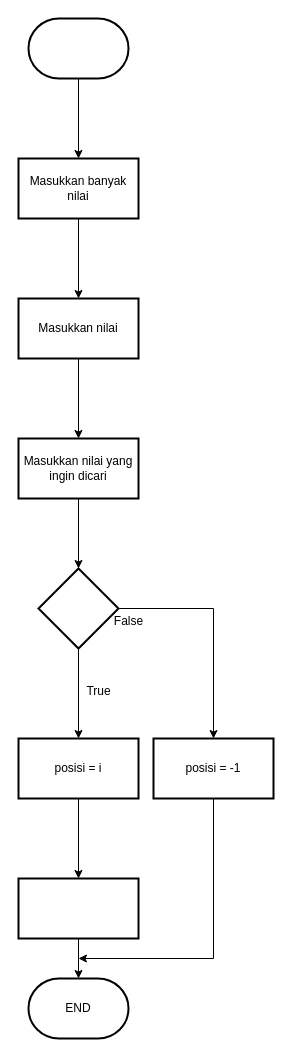
This 291x1056 diagram has some shape labels left out. The centre of each missing label's shape, as x and y in pixels:
"data[i] = cari?" goes at (x=78, y=608).
"Nilai ditemukan pada indeks ke-" goes at (x=78, y=908).
"START" goes at (x=78, y=48).
